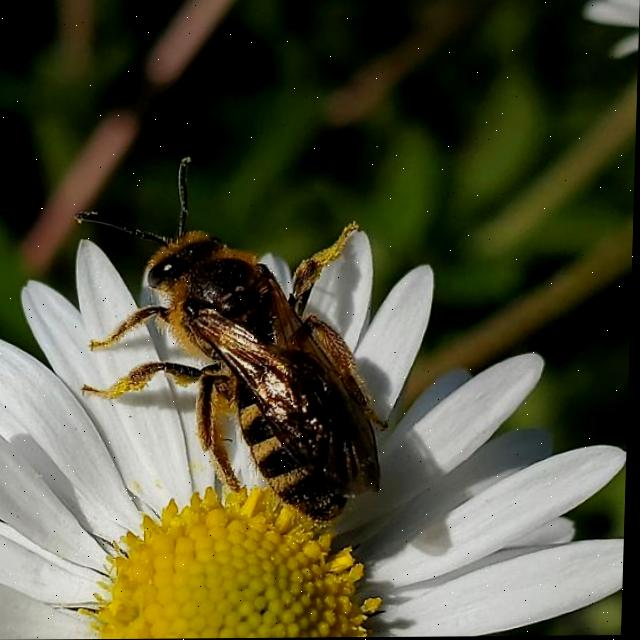Lasioglossum: (61, 138, 414, 537)
